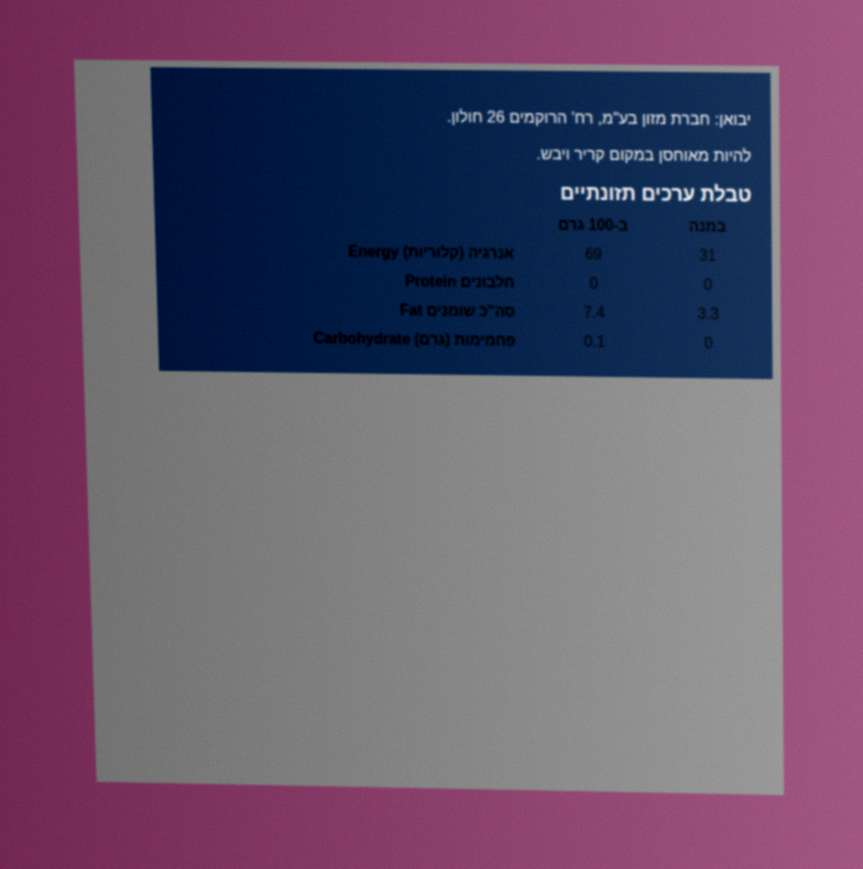carbs: (582, 331, 607, 352)
energy: (583, 244, 604, 264)
fat: (582, 302, 607, 323)
protein: (588, 273, 600, 294)
